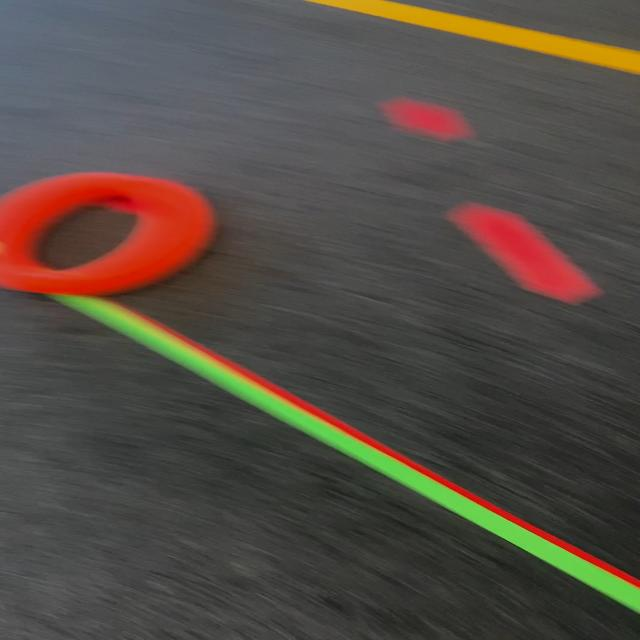notes: (0, 168, 210, 294)
